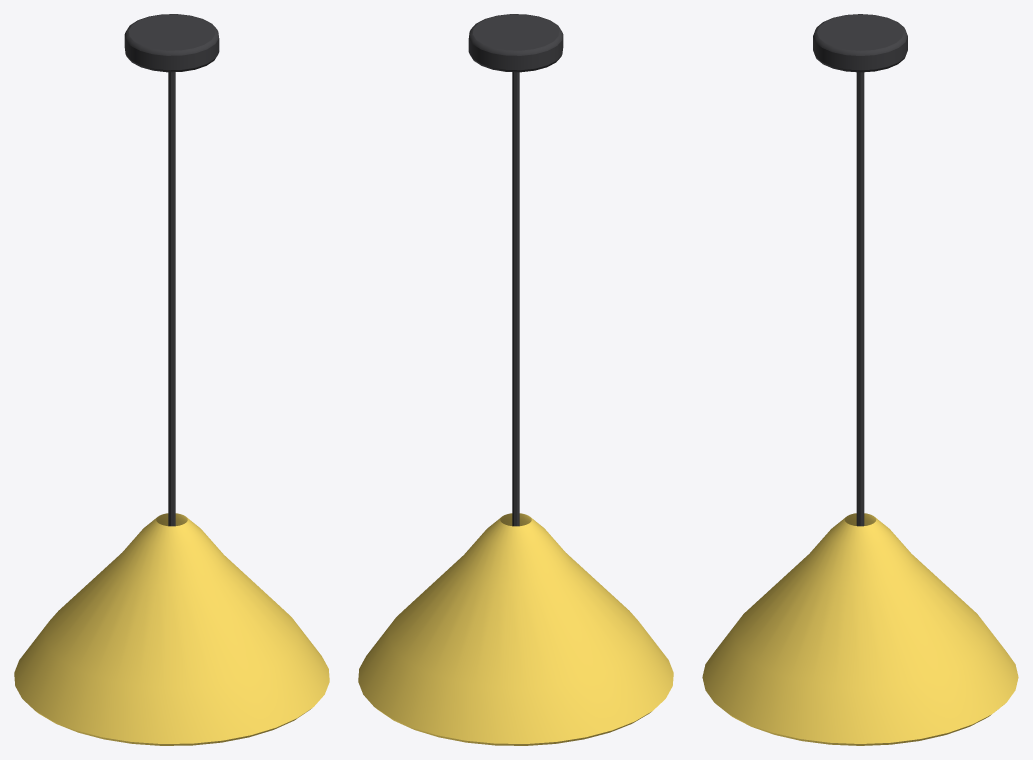
Rendered from PendantLamp.fbx.
3 renders of one model, left to right at view 1: azimuth 30°, elevation 25°; view 2: azimuth 150°, elevation 25°; view 3: azimuth 270°, elevation 25°, orthographic.
Visible parts, largest first — view 1: PendantLamp; view 2: PendantLamp; view 3: PendantLamp.
Part boxes in pixels (box(x1,y1,x2,y2)): PendantLamp: box(14, 14, 329, 745); PendantLamp: box(358, 14, 673, 745); PendantLamp: box(702, 14, 1018, 745).
Size of the model in its own units: 0.4 by 0.91 by 0.4.
